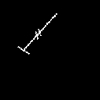treble_crochet: (18, 14, 56, 53)
